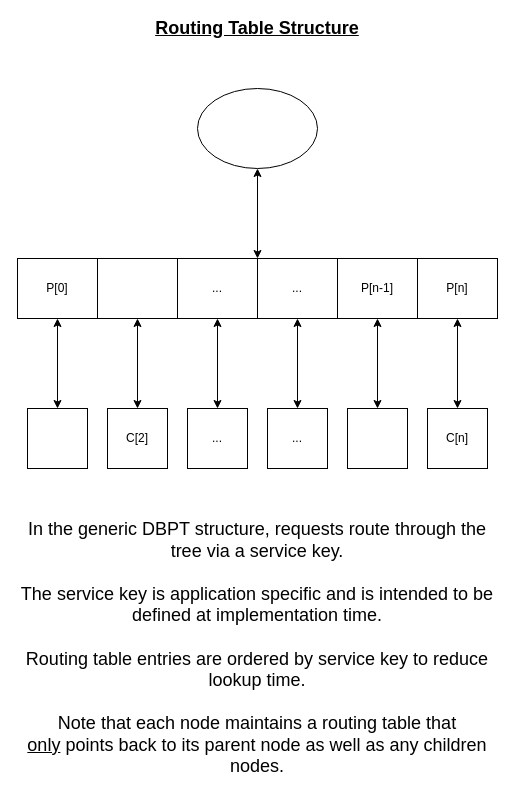
Some shapes in this 515 by 805 pixel diagram are drawn without their labels. The shapes that lost their labels are listed below. From the top down, each one's centre as x and y in pixels, then its label:
At pixel 257 128: "L-1 Parent".
At pixel 137 288: "P[1]".
At pixel 57 438: "C[1]".
At pixel 377 438: "C[n-1]".
